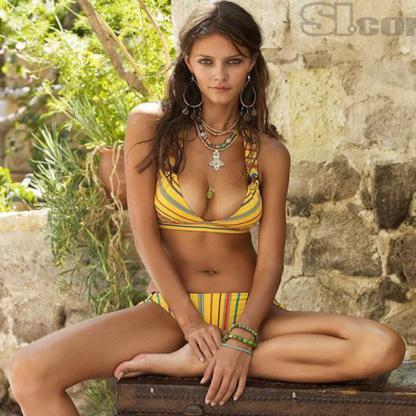long-hair: (153, 108, 276, 133)
